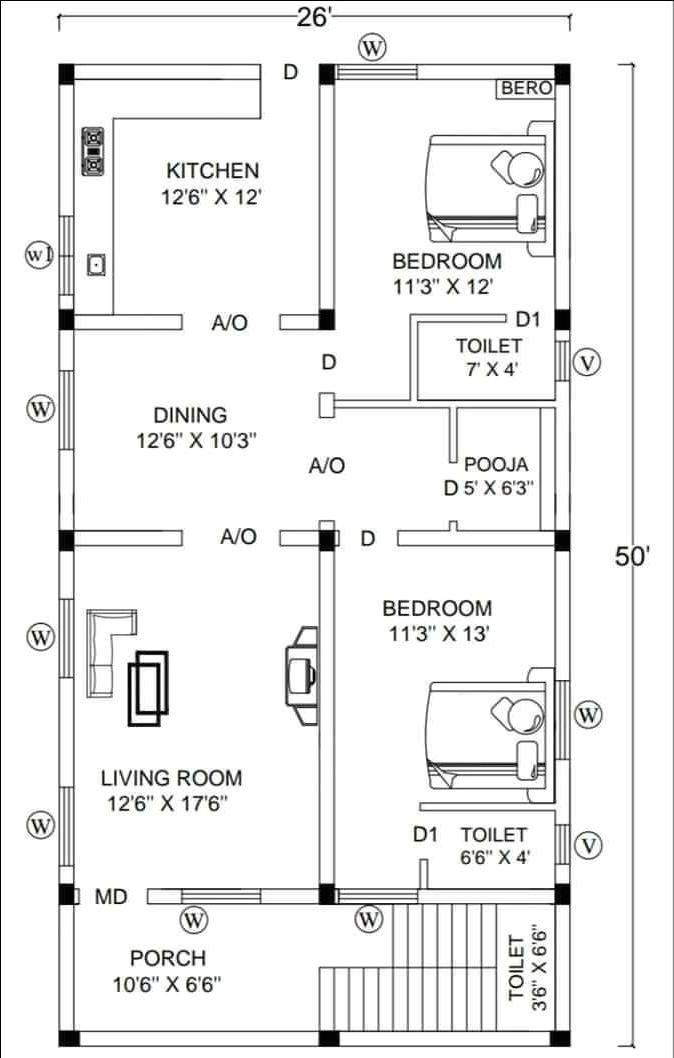Blueprint: (46, 51, 579, 1054)
wall: (316, 548, 337, 887), (550, 80, 576, 312), (77, 1026, 322, 1050), (314, 78, 337, 316), (336, 1026, 552, 1048), (70, 60, 264, 84), (394, 524, 558, 549), (414, 59, 560, 85), (550, 376, 572, 534), (330, 396, 559, 410), (54, 899, 78, 1032), (414, 884, 557, 906), (55, 79, 76, 219), (552, 546, 572, 684), (552, 900, 572, 1032), (415, 798, 558, 816), (69, 526, 185, 548), (55, 674, 76, 787), (71, 310, 183, 331), (55, 444, 76, 536), (550, 755, 572, 826), (415, 309, 510, 325), (256, 884, 321, 906), (406, 310, 421, 404), (274, 306, 324, 334), (55, 546, 75, 602), (54, 326, 76, 374), (276, 526, 322, 546), (444, 404, 459, 462), (144, 884, 185, 904), (550, 860, 572, 885), (54, 862, 76, 886)
